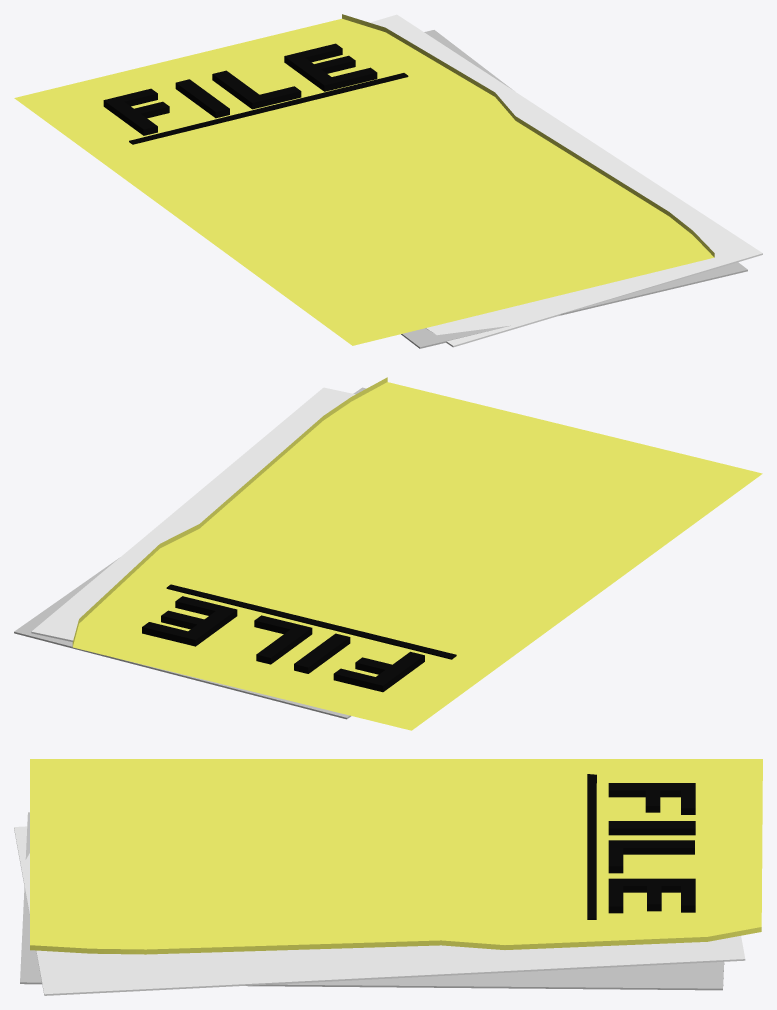
File: File cuts fbx.fbx
3 views of the same model, one above another, from view 1: azimuth 30°, elevation 25°; view 2: azimuth 150°, elevation 25°; view 3: azimuth 270°, elevation 25° (orthographic). The views are drawn at different scales.
Visible parts, largest first — view 1: polySurface1, pPlane2, typeMesh1, pPlane1, polySurface2; view 2: polySurface1, pPlane2, typeMesh1, pPlane1, polySurface2; view 3: polySurface1, pPlane2, pPlane1, typeMesh1, polySurface2.
Part boxes in pixels (box(x1,y1,x2,y2)): polySurface1: box(14, 14, 714, 345); pPlane2: box(370, 14, 762, 347); typeMesh1: box(103, 43, 377, 135); pPlane1: box(401, 30, 747, 348); polySurface2: box(129, 73, 408, 144); polySurface1: box(72, 377, 762, 730); pPlane2: box(31, 387, 355, 641); typeMesh1: box(142, 596, 424, 692); pPlane1: box(14, 387, 366, 719); polySurface2: box(166, 584, 456, 659); polySurface1: box(30, 759, 762, 954); pPlane2: box(14, 826, 745, 995); pPlane1: box(20, 812, 724, 990); typeMesh1: box(608, 783, 695, 913); polySurface2: box(587, 774, 596, 919).
Size of the model in its own units: 8.46 by 0.489 by 12.16.
